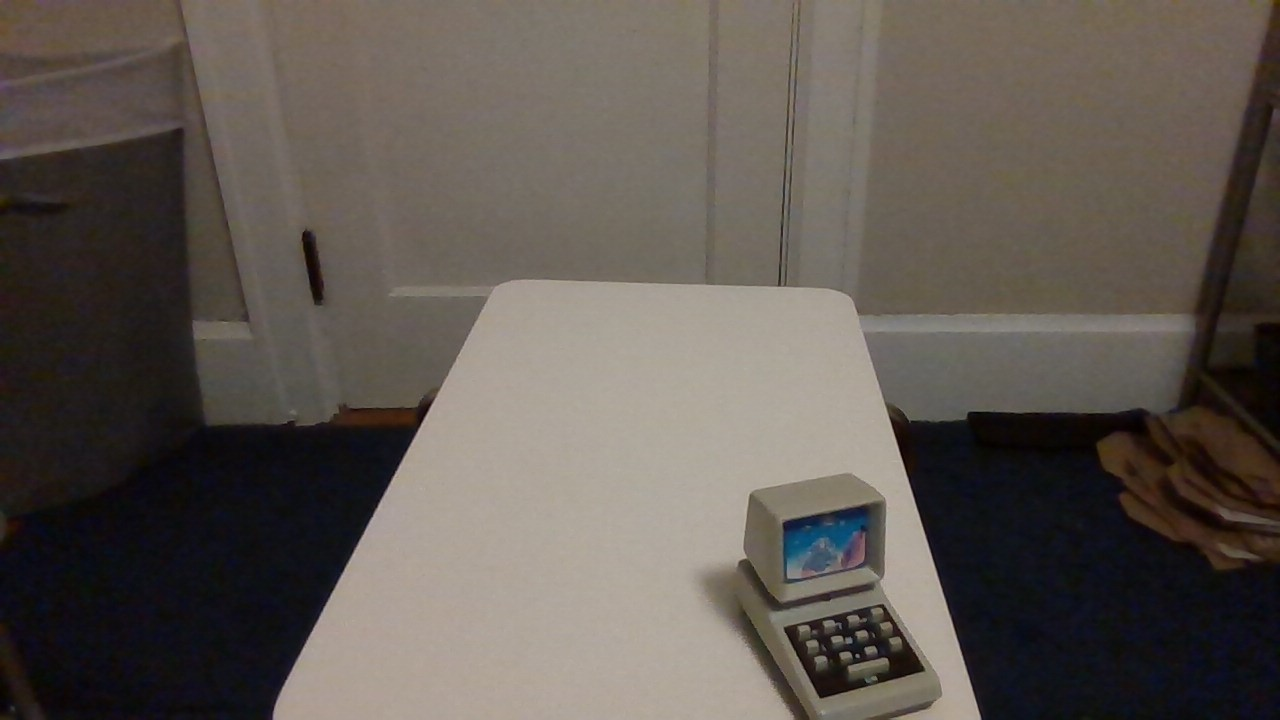Toy: (702, 455, 956, 720)
